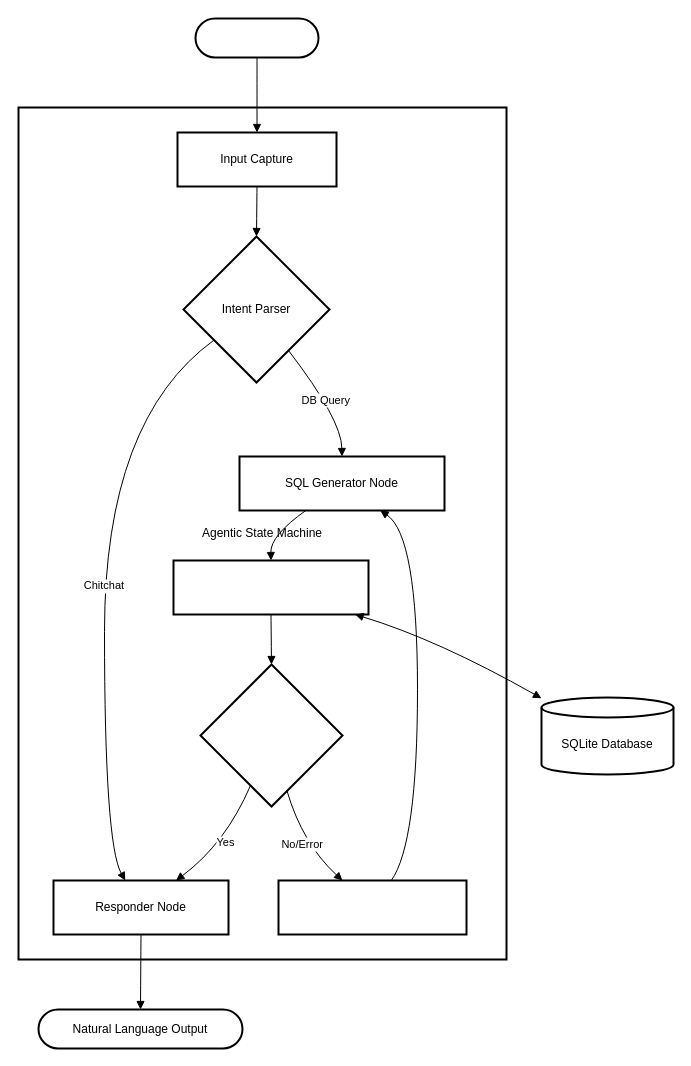
The diagram is 691 pixels wide and 1066 high, and some of its shapes have lost their labels. The shapes that lost their labels are listed below. From the top down, each one's box as (x1, y1, x2, y2) in pixels, then its label:
(194, 17, 319, 58): User Terminal
(172, 559, 369, 615): SQL Executor Node
(199, 663, 343, 807): Is Valid SQL?
(277, 879, 467, 935): AI Corrector Node
